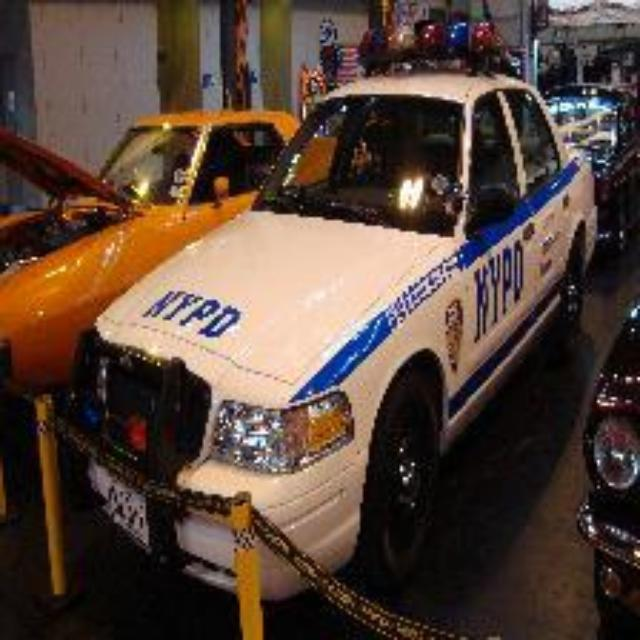emergency: (105, 30, 593, 570)
